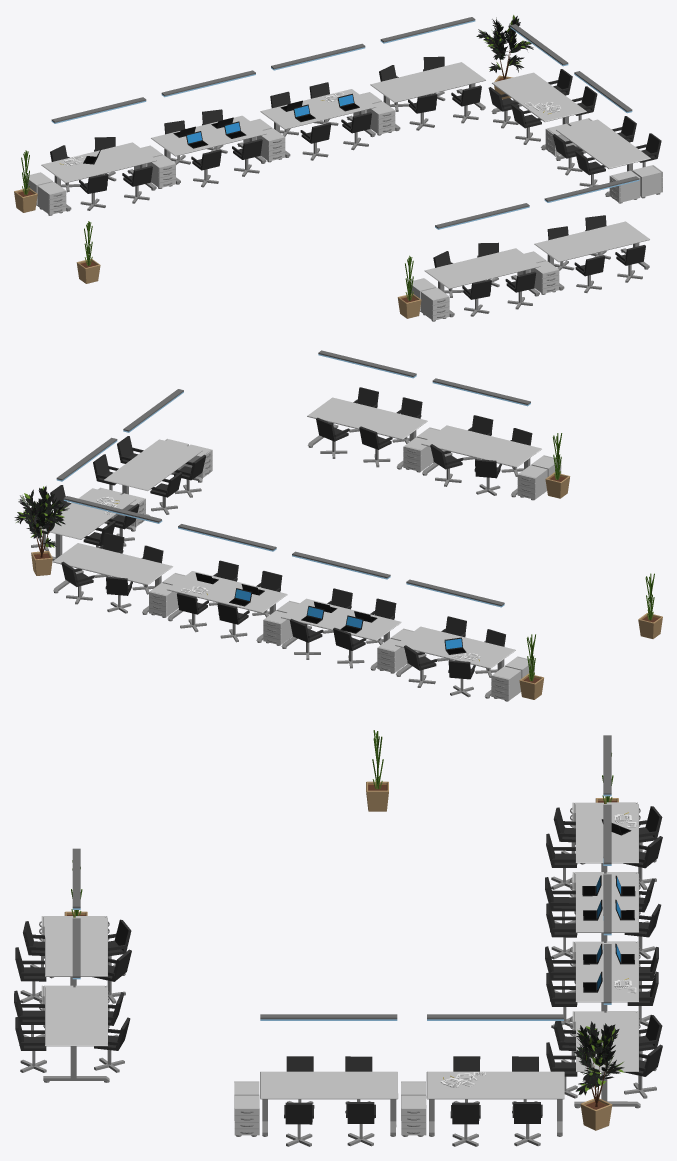
Rendered from d-roomcomp-r8-server-in.glb.
3 renders of one model, top to bottom at view 1: azimuth 30°, elevation 25°; view 2: azimuth 150°, elevation 25°; view 3: azimuth 270°, elevation 25°, orthographic. The views are drawn at different scales.
Parts seen in each view (by area): view 1: d-roomcomp-r8-server; view 2: d-roomcomp-r8-server; view 3: d-roomcomp-r8-server.
Part boxes in pixels (x1=…): d-roomcomp-r8-server: x1=14, y1=15, x2=662, y2=321; d-roomcomp-r8-server: x1=14, y1=350, x2=662, y2=701; d-roomcomp-r8-server: x1=14, y1=730, x2=662, y2=1146.
Size of the model in its own units: 22.38 by 3.23 by 17.75.
Materials: 3 (3 with a texture image).
